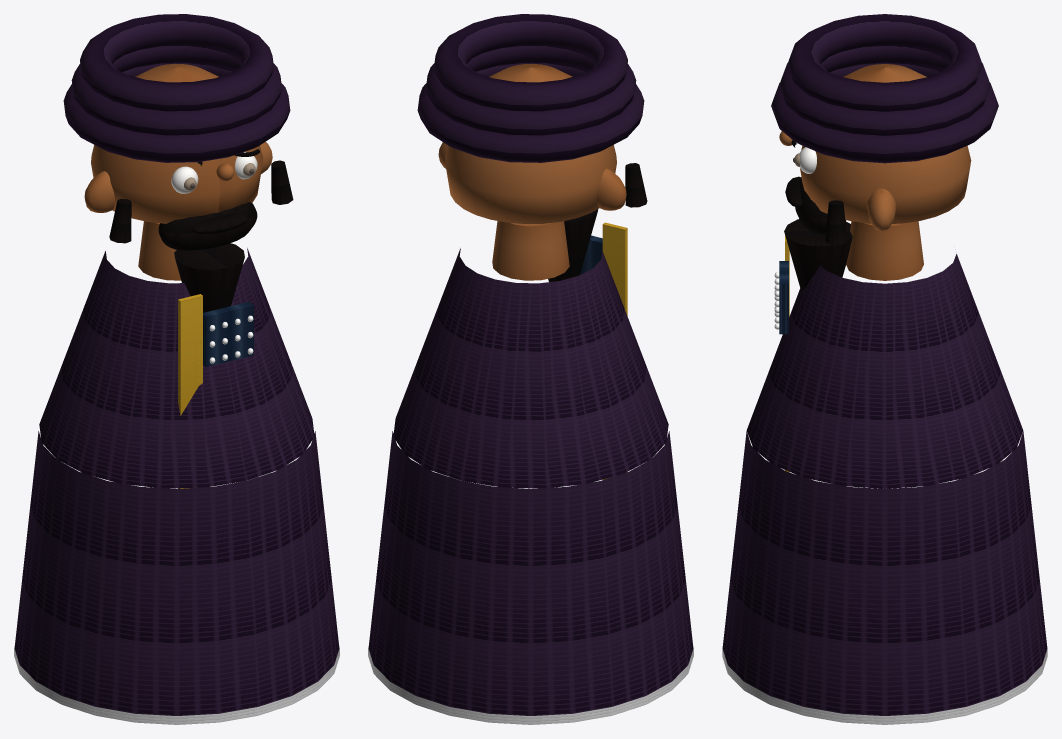
The model's file is temple_priest.glb.
3 renders of one model, left to right at view 1: azimuth 30°, elevation 25°; view 2: azimuth 150°, elevation 25°; view 3: azimuth 270°, elevation 25°, orthographic.
Parts seen in each view (by area): view 1: Character_the_temple_priest, head; view 2: Character_the_temple_priest, head; view 3: Character_the_temple_priest, head.
Boxes of the visible parts, x1,y1,x2,y2 form: Character_the_temple_priest: [14, 14, 339, 724]; head: [91, 63, 262, 223]; Character_the_temple_priest: [368, 14, 693, 724]; head: [445, 63, 616, 223]; Character_the_temple_priest: [722, 14, 1047, 724]; head: [800, 64, 971, 223].
Bounding box in the file's own units: 0.877 × 1.8 × 0.877.
13 materials, 7 textured.
